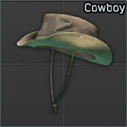Kinda cowboy hat: (0, 0, 127, 127)
